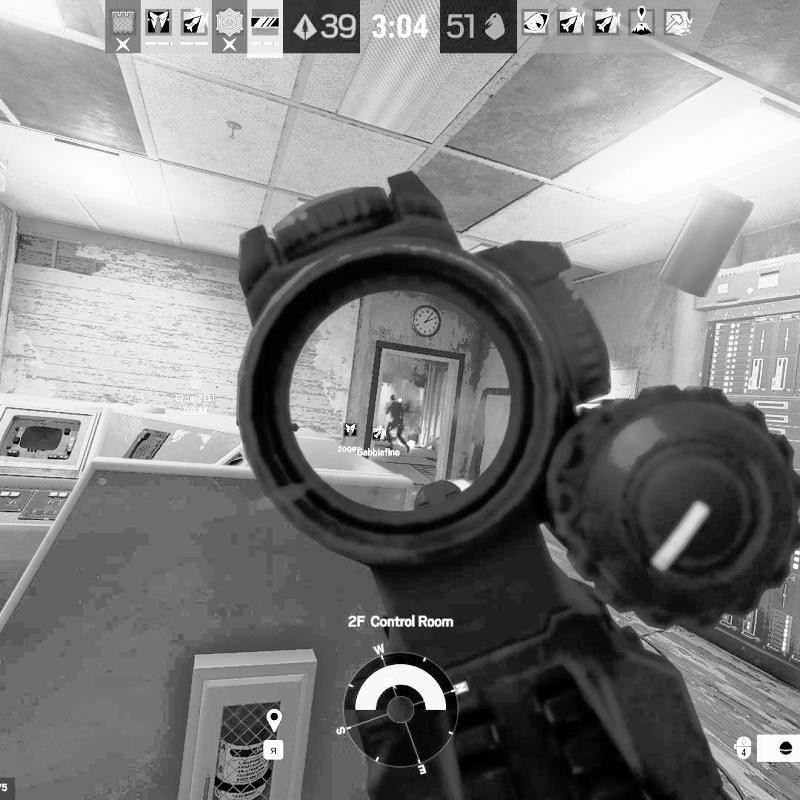Character: (384, 394, 411, 454)
Friend_label: (356, 426, 402, 457), (338, 422, 363, 454)
Head: (390, 394, 396, 401)
